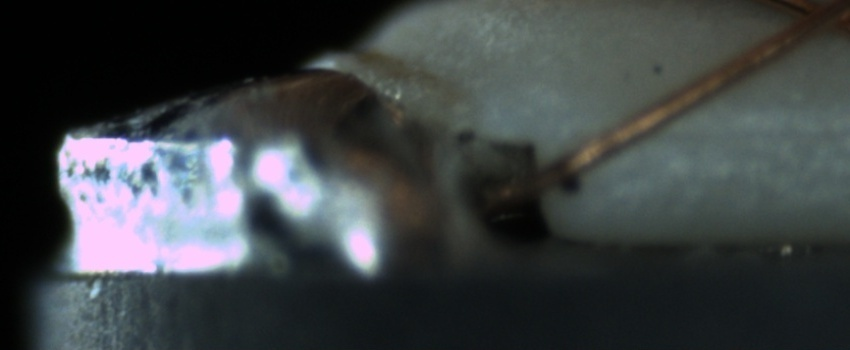CL: (775, 0, 848, 44)
DL: (639, 99, 849, 161)
